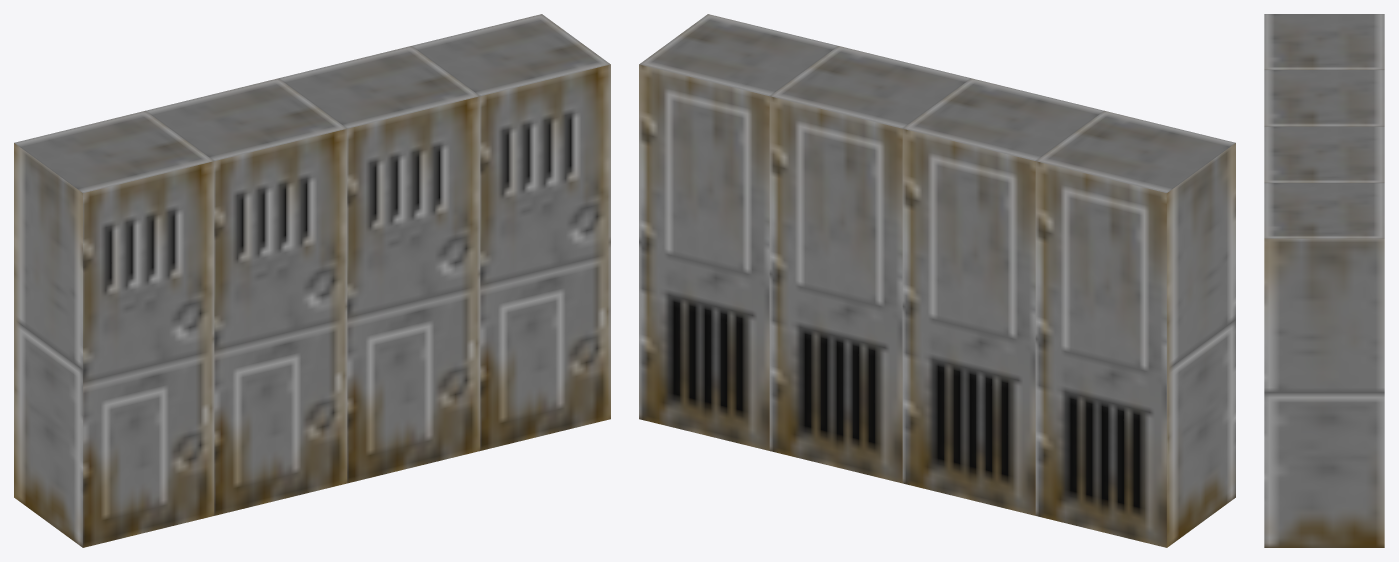
File: lockers.glb
3 views of the same model, side by side, from view 1: azimuth 30°, elevation 25°; view 2: azimuth 150°, elevation 25°; view 3: azimuth 270°, elevation 25° (orthographic). The views are drawn at different scales.
Visible parts, largest first — view 1: Lockers; view 2: Lockers; view 3: Lockers.
Boxes of the visible parts, <box> form: Lockers: <box>14,14,610,547</box>; Lockers: <box>639,14,1235,547</box>; Lockers: <box>1264,14,1384,547</box>.
Size of the model in its own units: 3.74 by 2.4 by 0.8447.
Materials: 1 (1 with a texture image).
